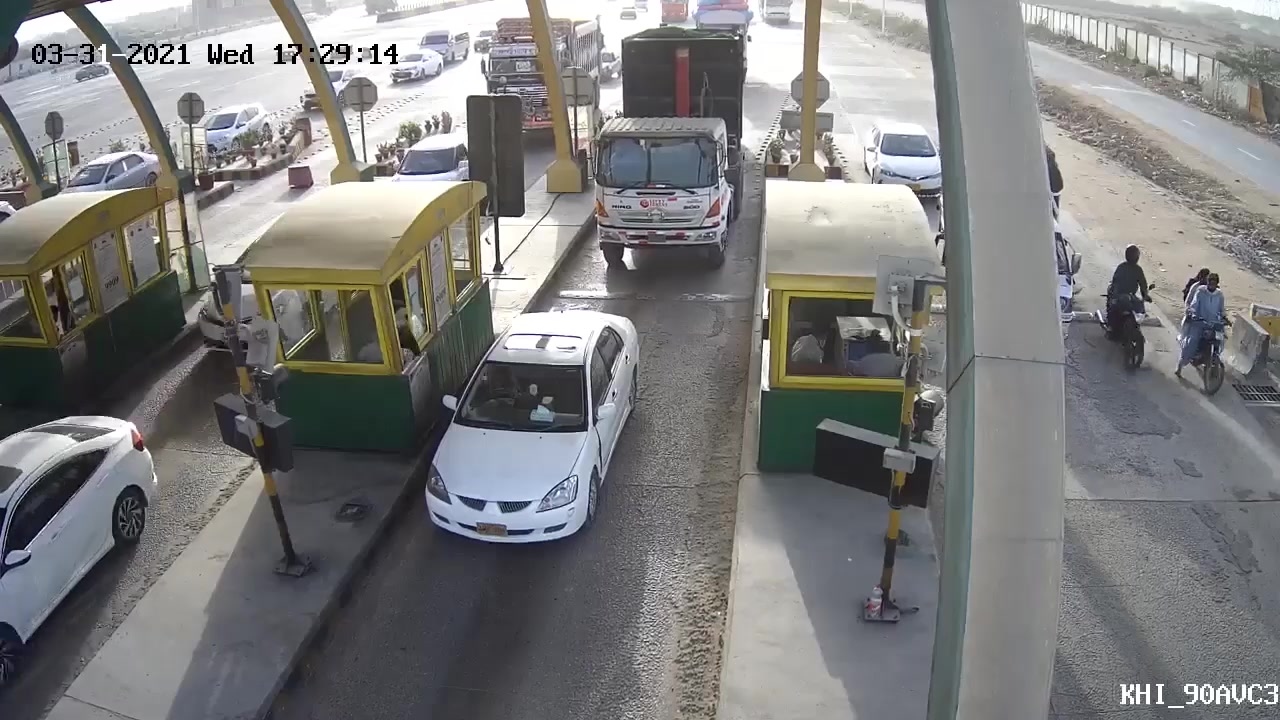F1: (413, 308, 646, 551)
F6: (591, 20, 746, 262)
